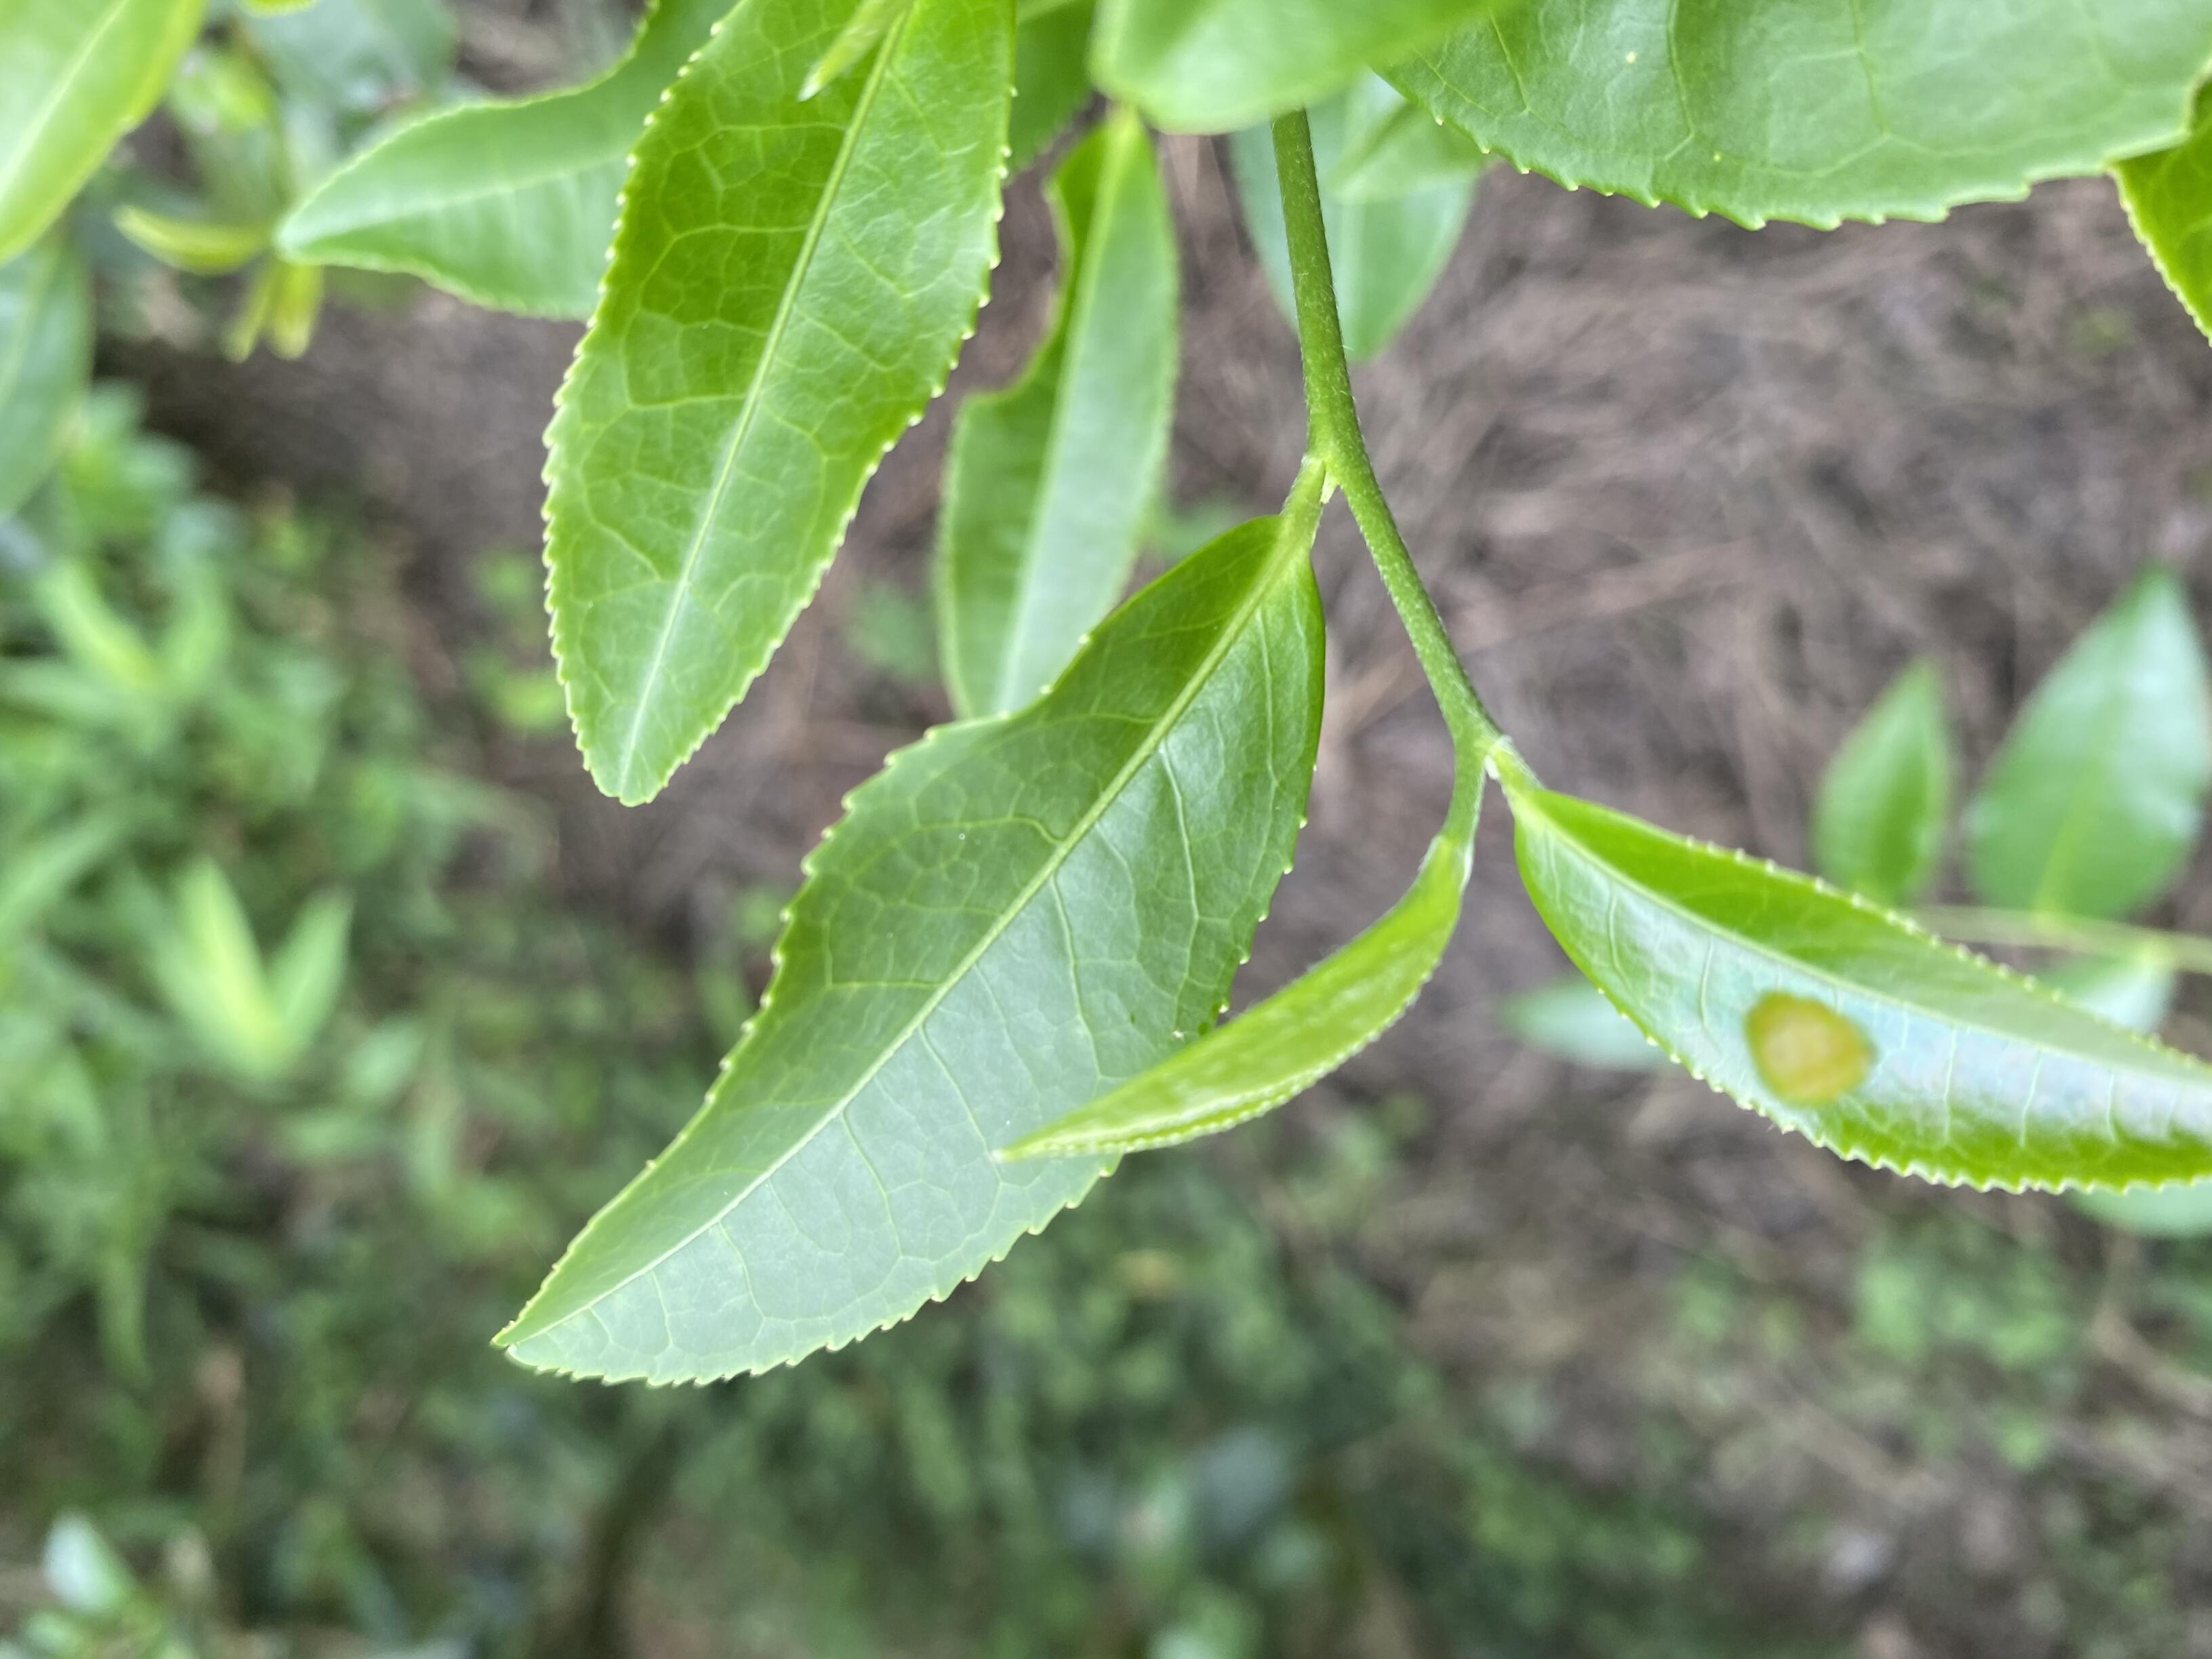chabing_low: (1512, 788, 2212, 1194)
healthy: (486, 512, 1329, 1394), (535, 3, 1022, 812)
